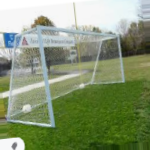goals: (4, 24, 127, 128)
